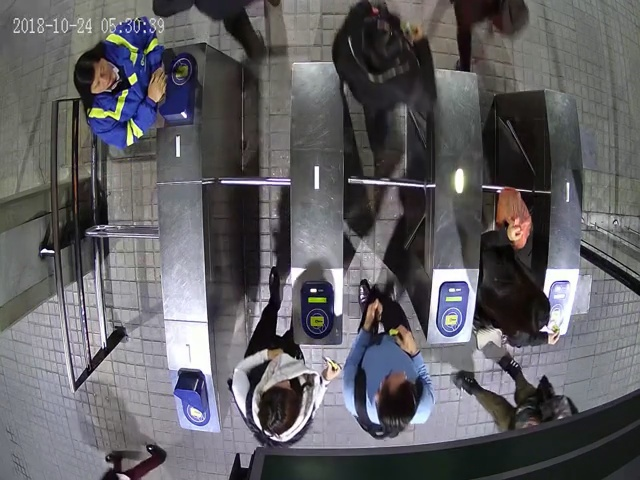Chaleco_azul: (74, 17, 169, 148)
